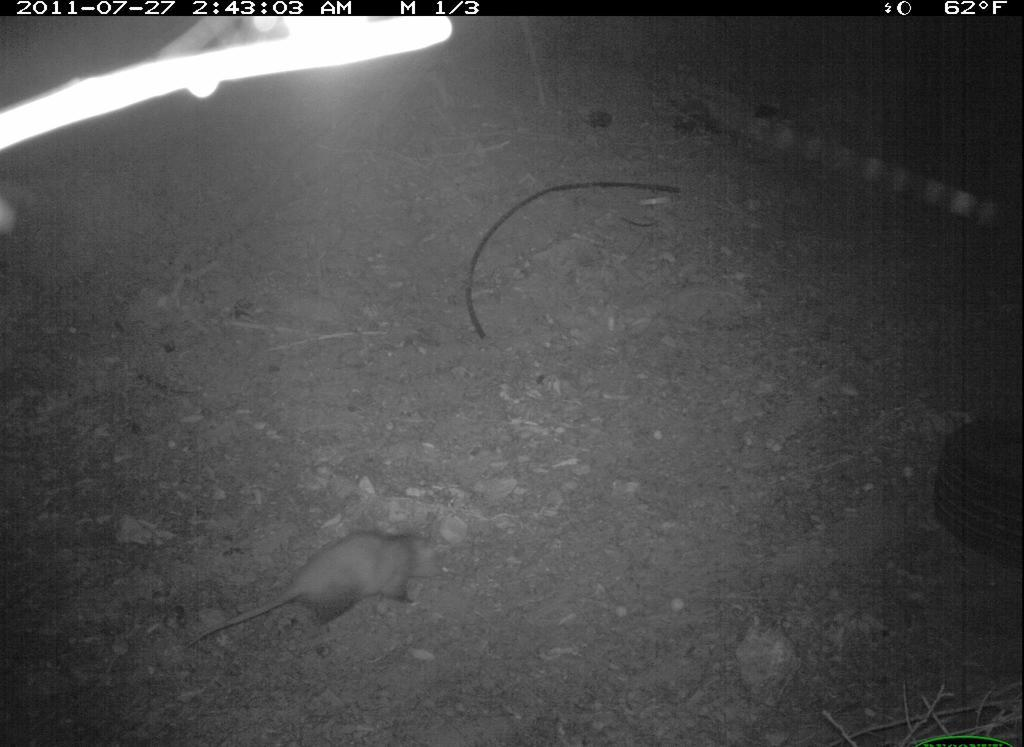opossum: (171, 536, 454, 666)
